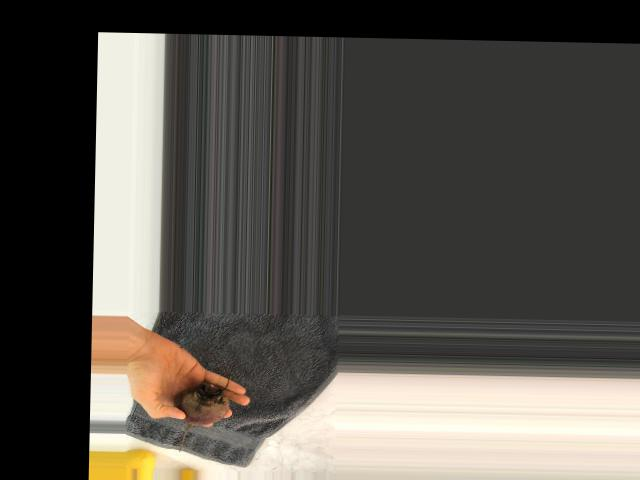beet: (173, 381, 229, 452)
